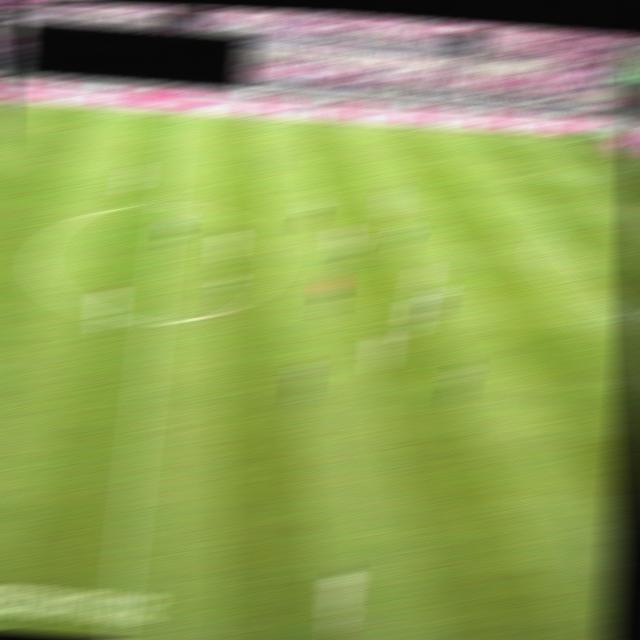bigarea_top_inner: (498, 169, 523, 180)
bottom_arc_area_intersection: (614, 310, 636, 321)
corner: (581, 134, 607, 144)
halfcircle_bottom: (138, 315, 166, 329)
halfcircle_top: (151, 198, 179, 212)
midline_top_intersection: (165, 111, 191, 121)
top_arc_area_intersection: (541, 223, 566, 233)
